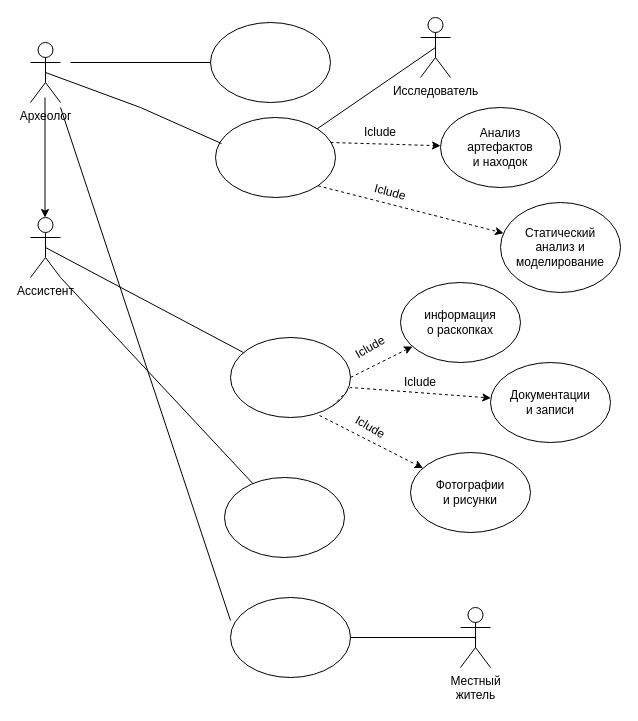
The diagram is 638 pixels wide and 721 high, and some of its shapes have lost their labels. Each missing label, with the box of its shape:
Анализ: (214, 116, 336, 198)
Подготовка к исследованию: (210, 22, 330, 102)
Публикация: (230, 596, 350, 678)
Раскопки: (230, 336, 350, 418)
сбор информации: (224, 476, 344, 558)
